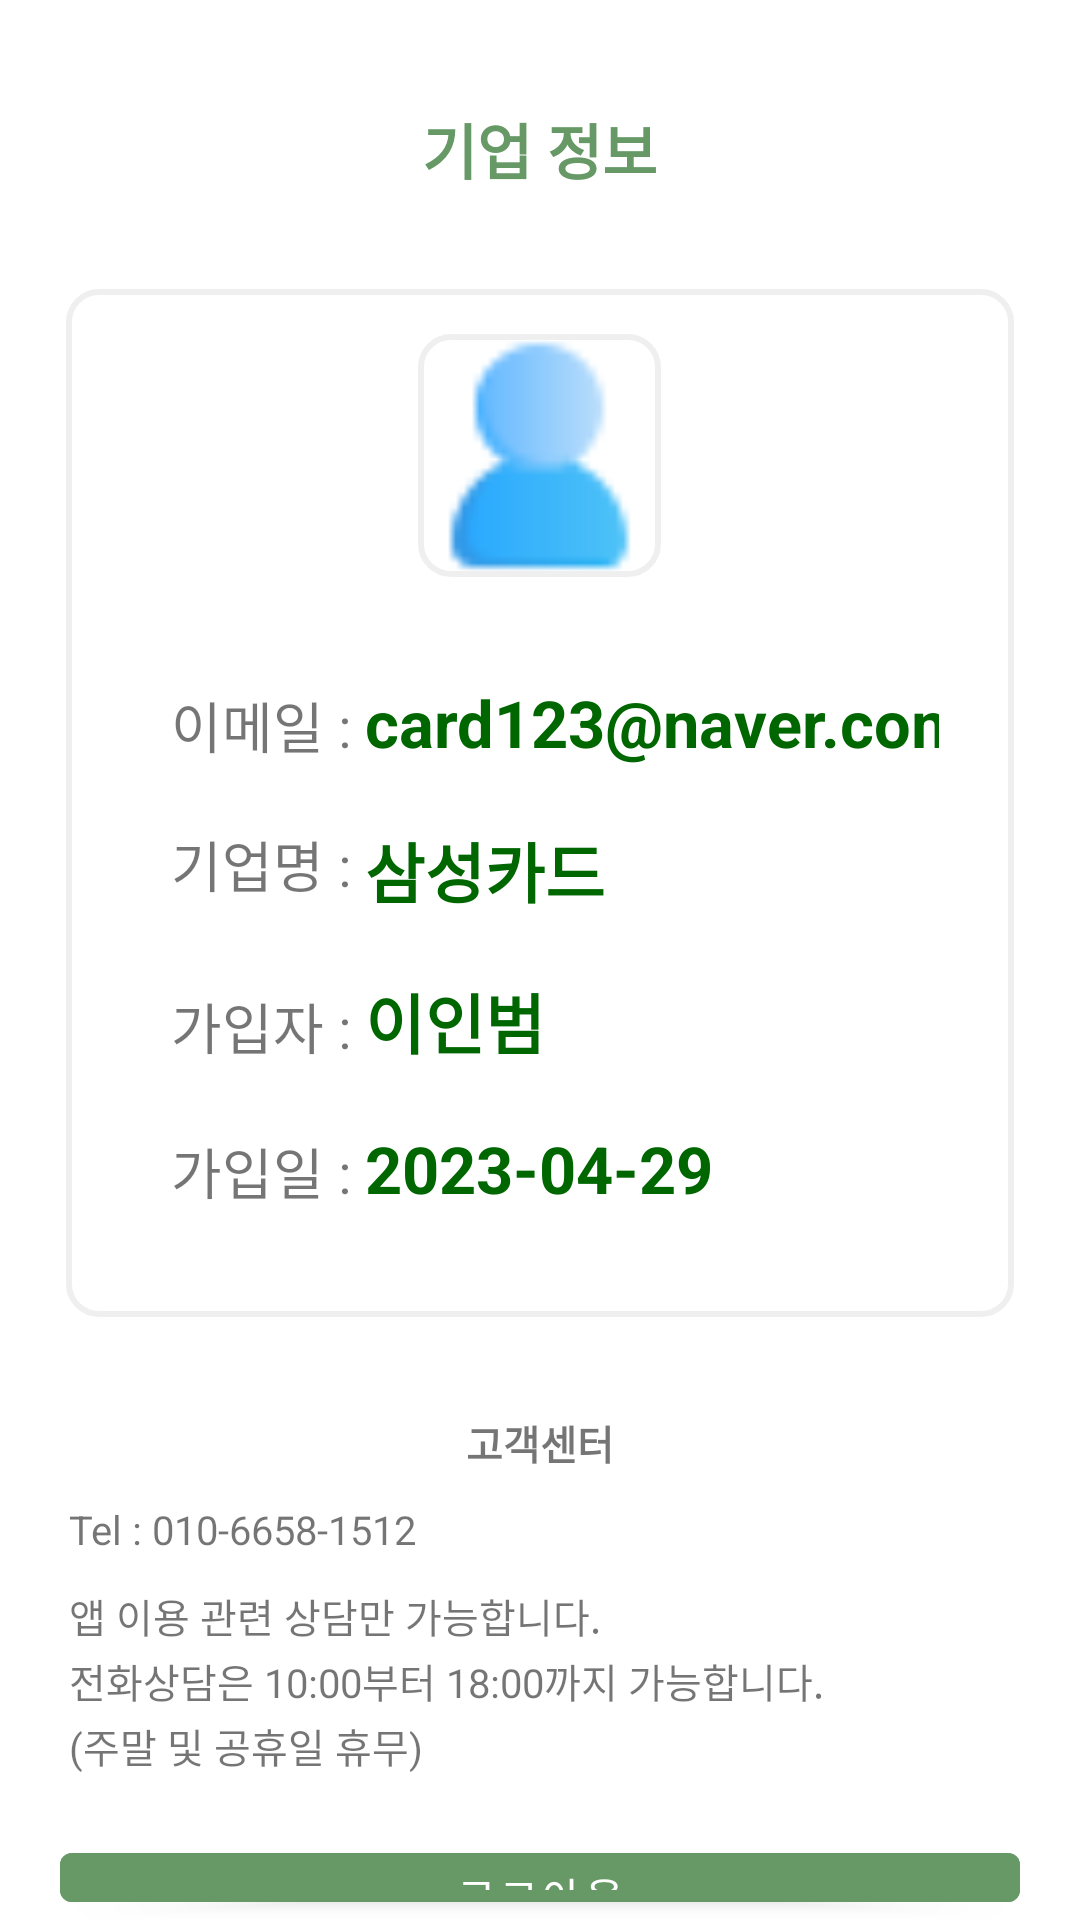

Icons on this 1080 x 1920 Android screen, each with its box as rect(x1, y1, x2, y2):
user: rect(449, 342, 630, 570)
